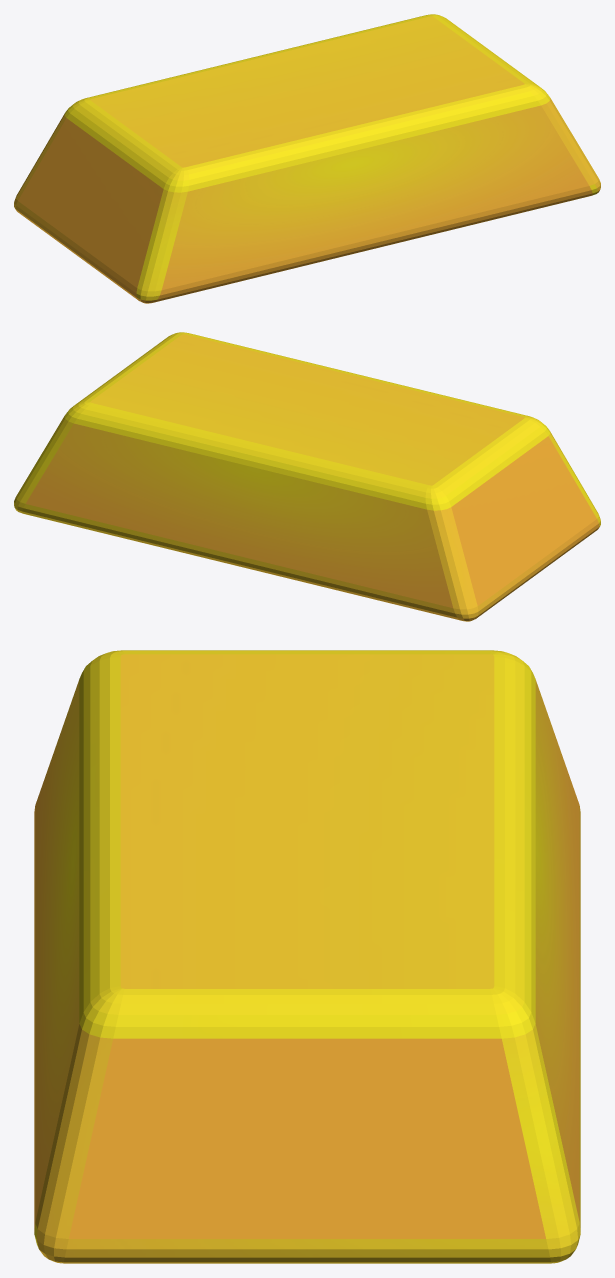
The model's file is gold_R.fbx.
3 views of the same model, one above another, from view 1: azimuth 30°, elevation 25°; view 2: azimuth 150°, elevation 25°; view 3: azimuth 270°, elevation 25° (orthographic). The views are drawn at different scales.
Visible parts, largest first — view 1: gold; view 2: gold; view 3: gold.
Part boxes in pixels (box(x1,y1,x2,y2)): gold: box(14, 14, 600, 303); gold: box(14, 332, 600, 621); gold: box(34, 650, 580, 1263).
Size of the model in its own units: 195 by 44.91 by 99.97.
Materials: 1 (1 with a texture image).
